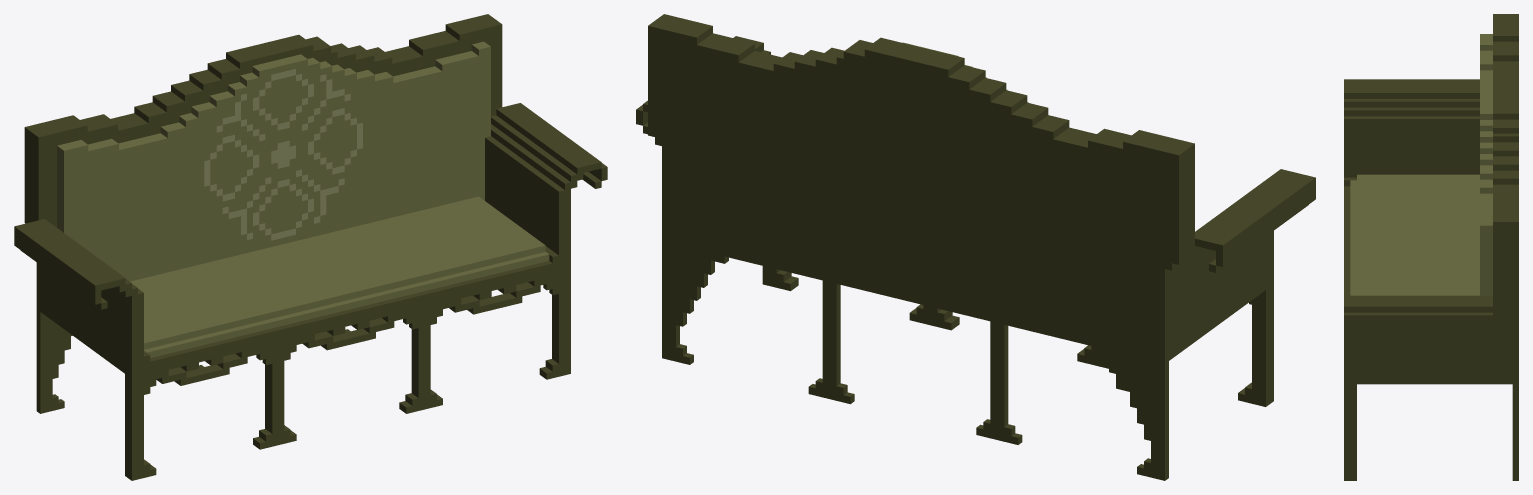
Rendered from Sofa.obj.
3 views of the same model, side by side, from view 1: azimuth 30°, elevation 25°; view 2: azimuth 150°, elevation 25°; view 3: azimuth 270°, elevation 25° (orthographic). The views are drawn at different scales.
Visible parts, largest first — view 1: Sofa; view 2: Sofa; view 3: Sofa.
Part boxes in pixels (x1,y1,x2,y2): Sofa: (14,14,607,480); Sofa: (636,14,1315,480); Sofa: (1344,14,1518,480).
Size of the model in its own units: 84 by 49 by 27.
1 material, 1 textured.
